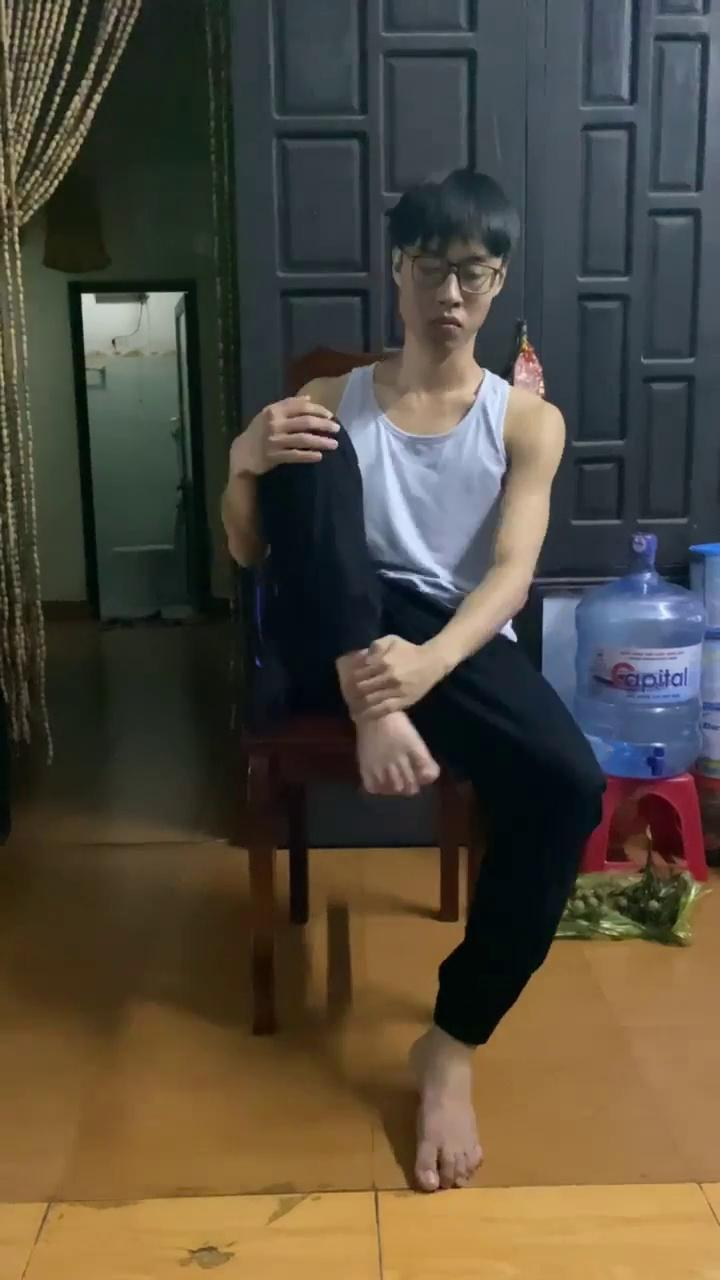BadPosture: (223, 433, 603, 1189)
